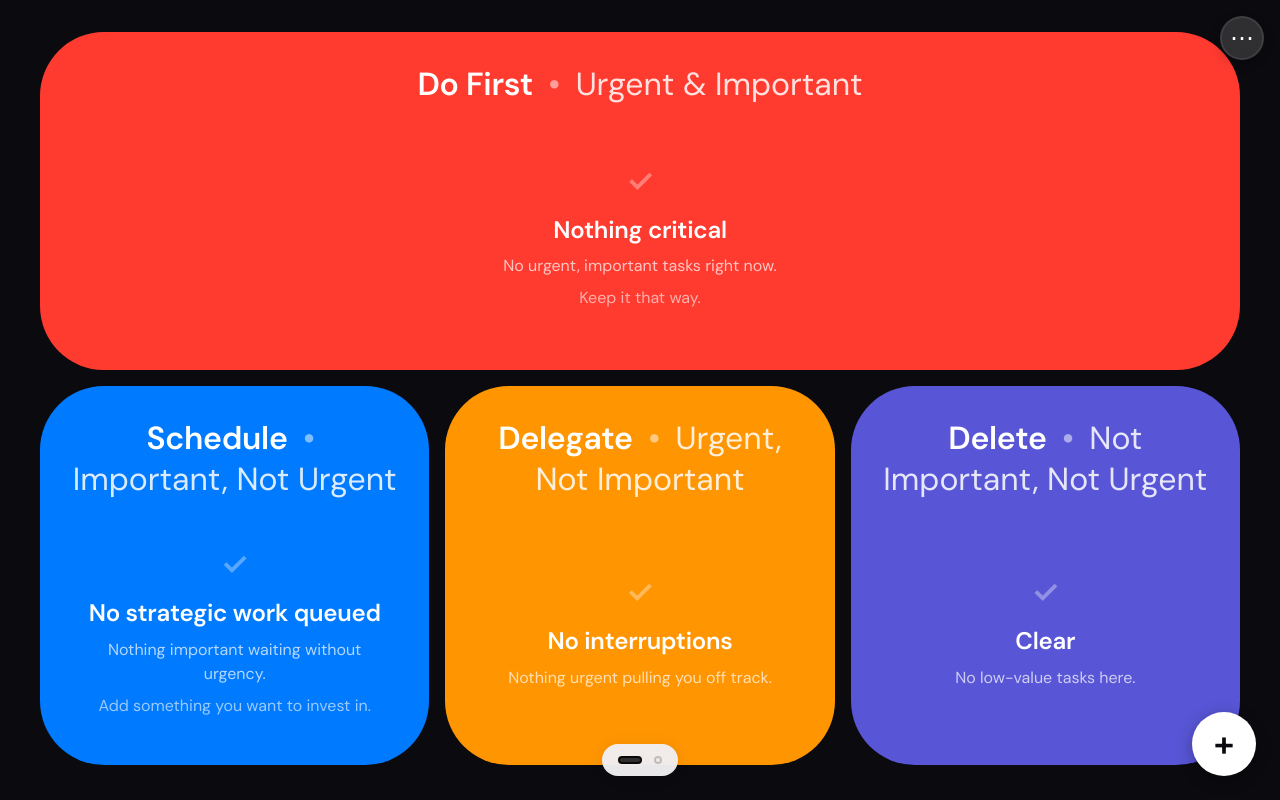
Scenario: Task Creation Overlay Integration › should default frequency to low for Q3/Q4 tasks
Click the button named "add new task" at (1224, 744), box [1192, 712, 1256, 776]
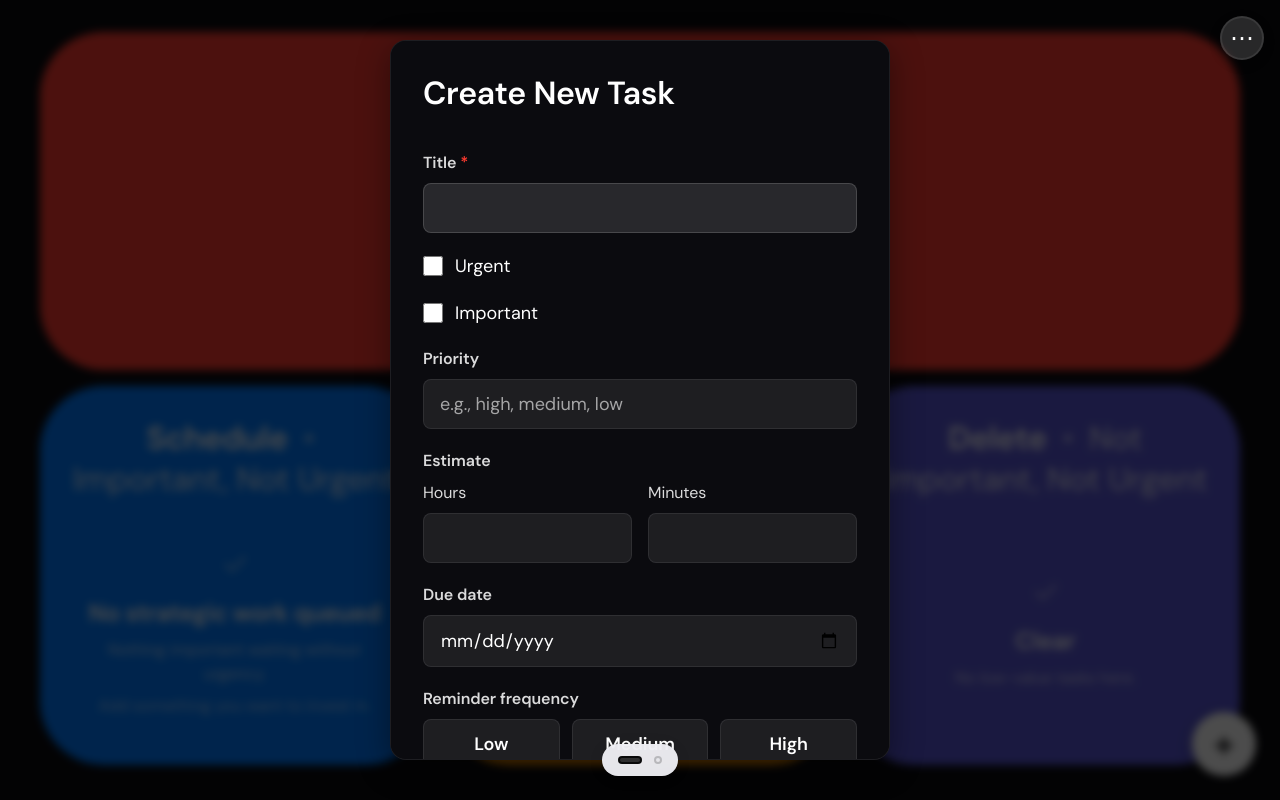
Result: the heading "Create New Task" is shown at [423, 72, 675, 114]
Type "Q3 Task" into the field labelled "Title *" at (640, 208), box [423, 183, 857, 233]
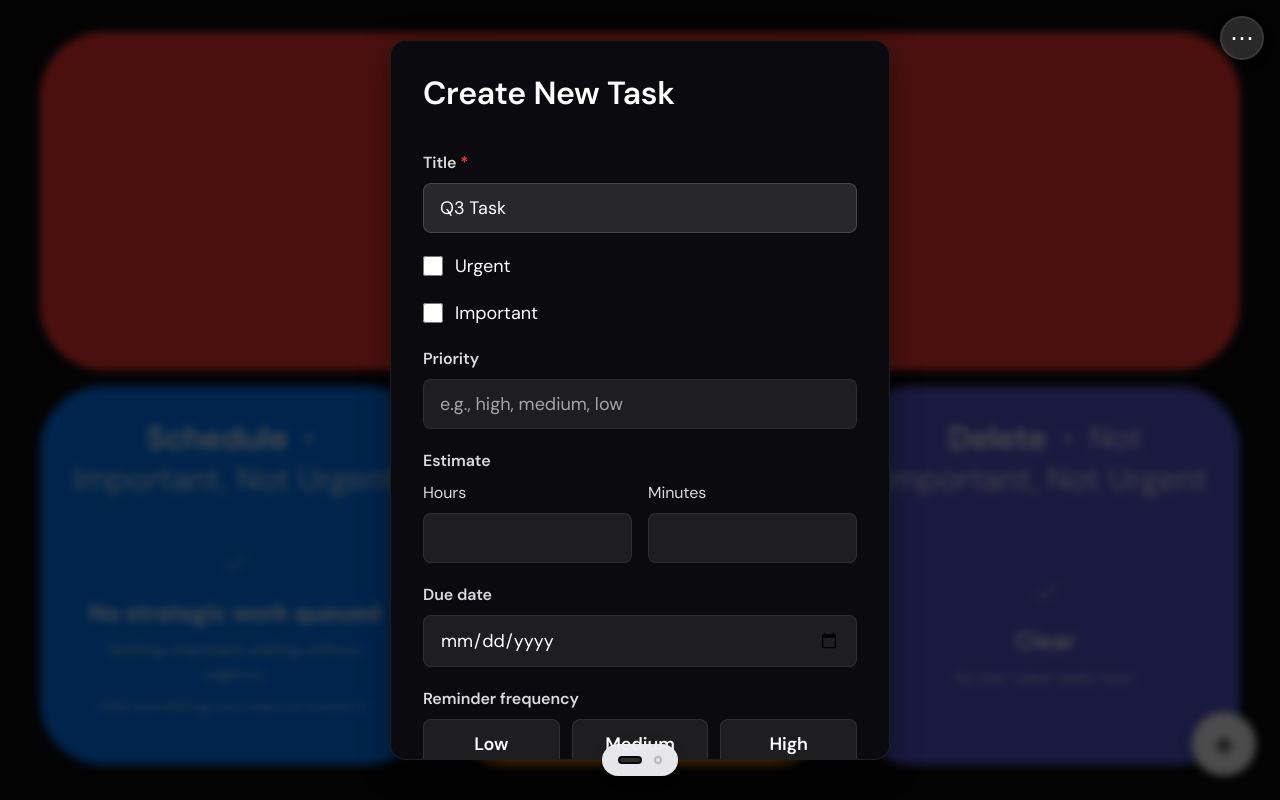
Click the checkbox labelled "Urgent" at (433, 266), box [423, 256, 443, 276]
(page scrolled)
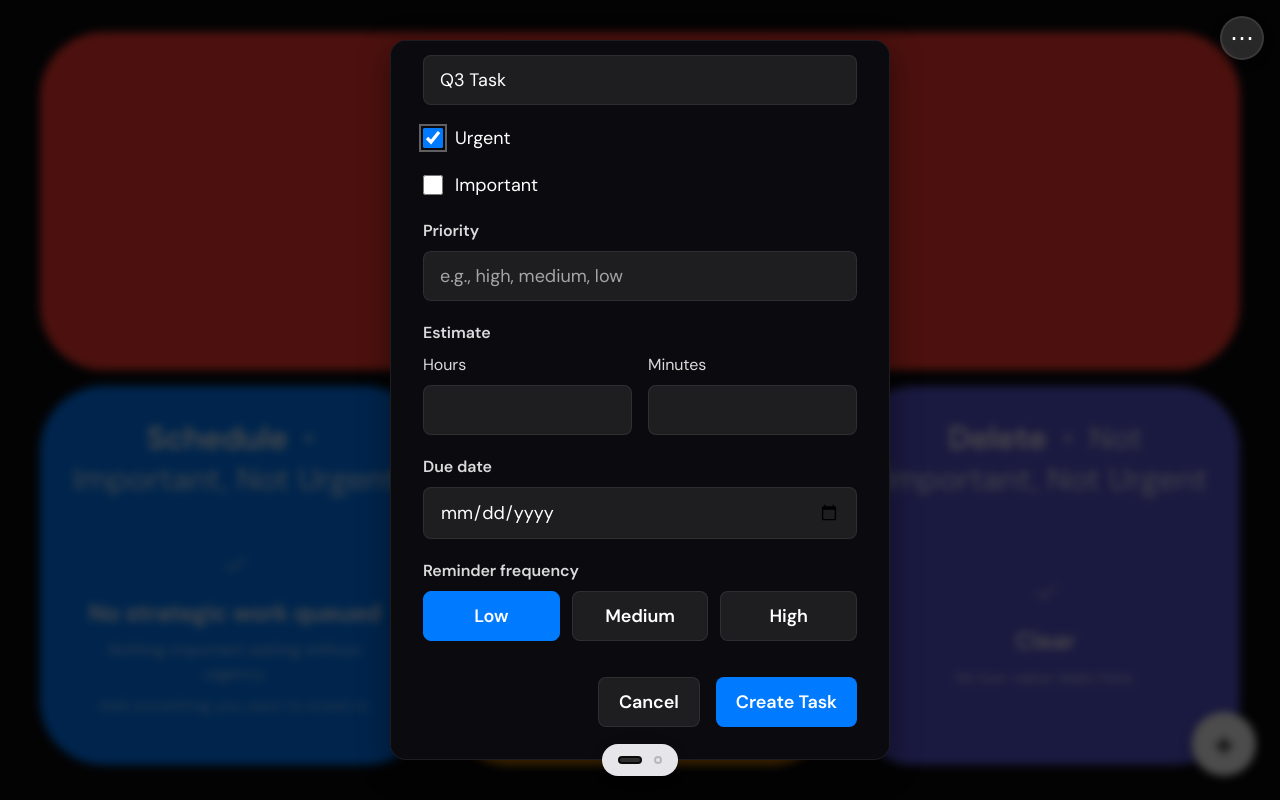
Result: the button "Low" has class "task-creation-overlay__frequency-button--active" at [423, 591, 560, 641]
Click the button "Create Task" at (786, 702), box [716, 677, 857, 727]
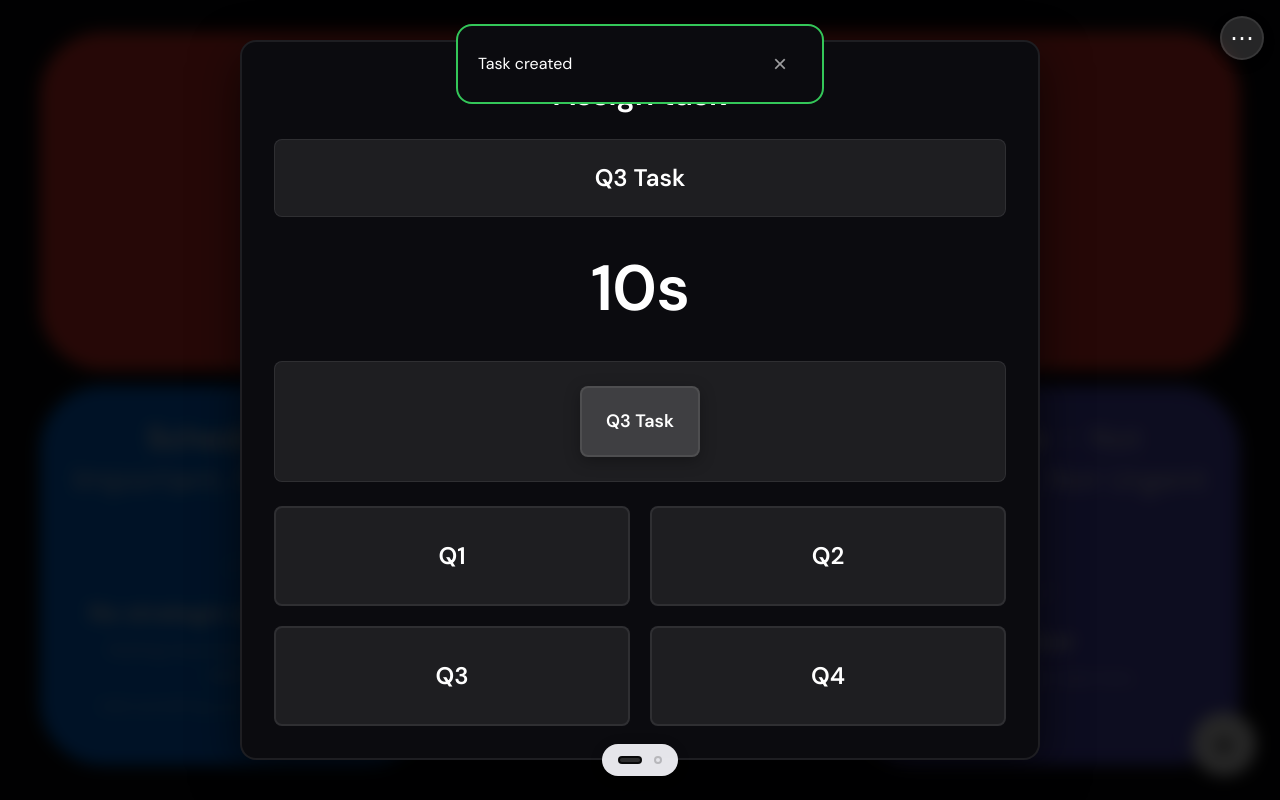
Expected: the heading "Create New Task" is not shown
Result: the element with test id "quadrant-Q3" shows "Q3 Task" at [578, 574, 714, 618]
